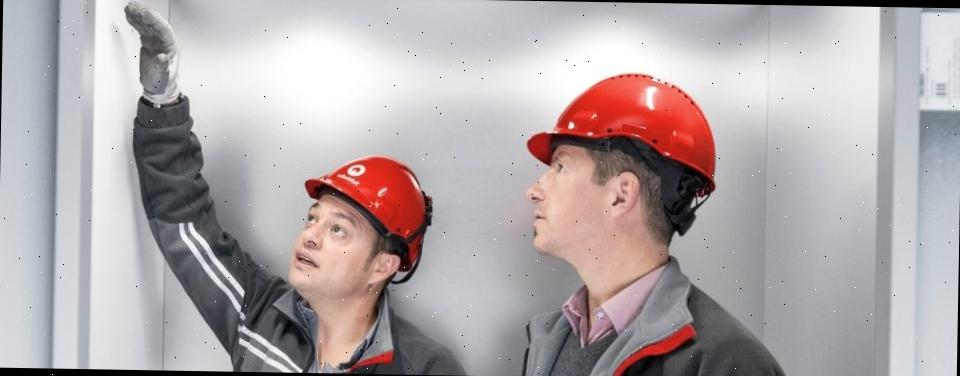helmet: (523, 69, 720, 197), (302, 155, 440, 276)
